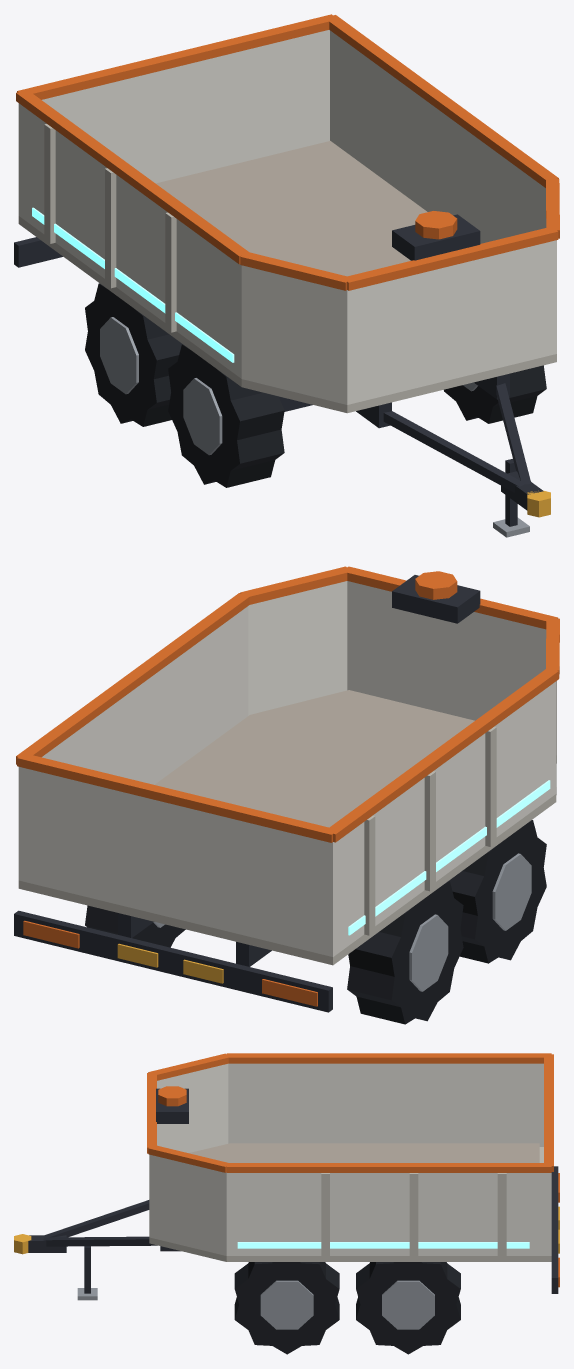
File: vozidlo-prachocuc-privez-2.glb
3 renders of one model, top to bottom at view 1: azimuth 30°, elevation 25°; view 2: azimuth 150°, elevation 25°; view 3: azimuth 270°, elevation 25°, orthographic. The views are drawn at different scales.
Visible parts, largest first — view 1: karoserie, hladina, kolo_1, kolo_3, kolo_2; view 2: karoserie, hladina, kolo_3, kolo_1, kolo_4; view 3: karoserie, kolo_2, kolo_4, hladina.
Part boxes in pixels (bbox=[...]): karoserie: bbox=[14, 14, 559, 537]; hladina: bbox=[156, 141, 427, 276]; kolo_1: bbox=[168, 344, 284, 487]; kolo_3: bbox=[85, 283, 182, 426]; kolo_2: bbox=[444, 365, 546, 423]; karoserie: bbox=[14, 566, 559, 1012]; hladina: bbox=[154, 690, 474, 827]; kolo_3: bbox=[347, 881, 463, 1024]; kolo_1: bbox=[449, 820, 546, 963]; kolo_4: bbox=[85, 905, 185, 947]; karoserie: bbox=[14, 1053, 559, 1300]; kolo_2: bbox=[234, 1262, 339, 1354]; kolo_4: bbox=[356, 1262, 460, 1354]; hladina: bbox=[188, 1143, 539, 1162].
Size of the model in its own units: 2.48 by 2.08 by 4.95.
